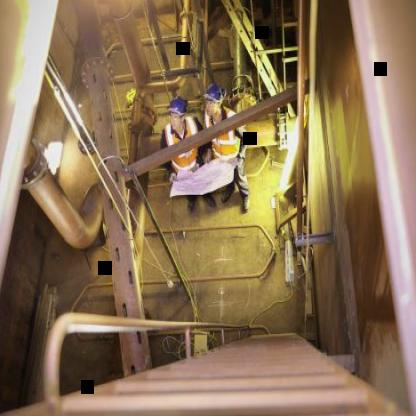helmet: (164, 93, 188, 133), (204, 82, 226, 118)
